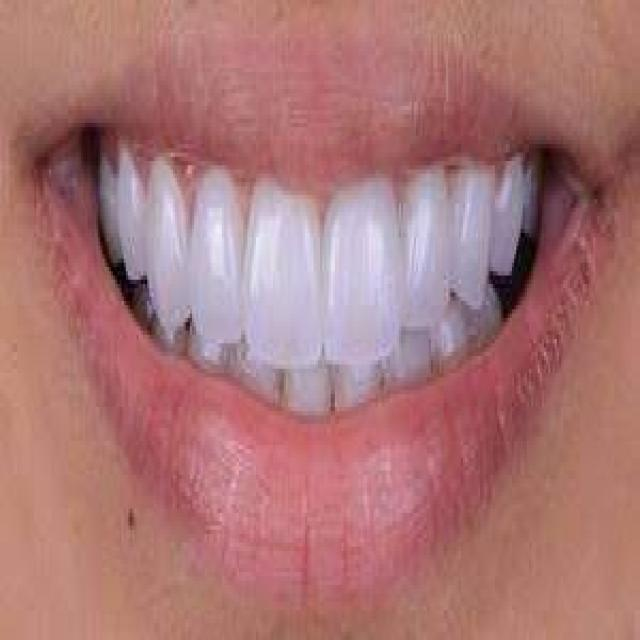tooth: (320, 178, 399, 352), (247, 178, 320, 360), (190, 161, 239, 331), (145, 157, 190, 322), (403, 174, 448, 326), (448, 161, 486, 305), (118, 148, 148, 280), (286, 360, 331, 411), (493, 161, 514, 263), (337, 356, 386, 398), (243, 356, 286, 403), (184, 331, 228, 373), (100, 161, 118, 250), (438, 318, 468, 364), (392, 348, 431, 382), (472, 301, 502, 343), (522, 161, 538, 225), (154, 326, 181, 352)
